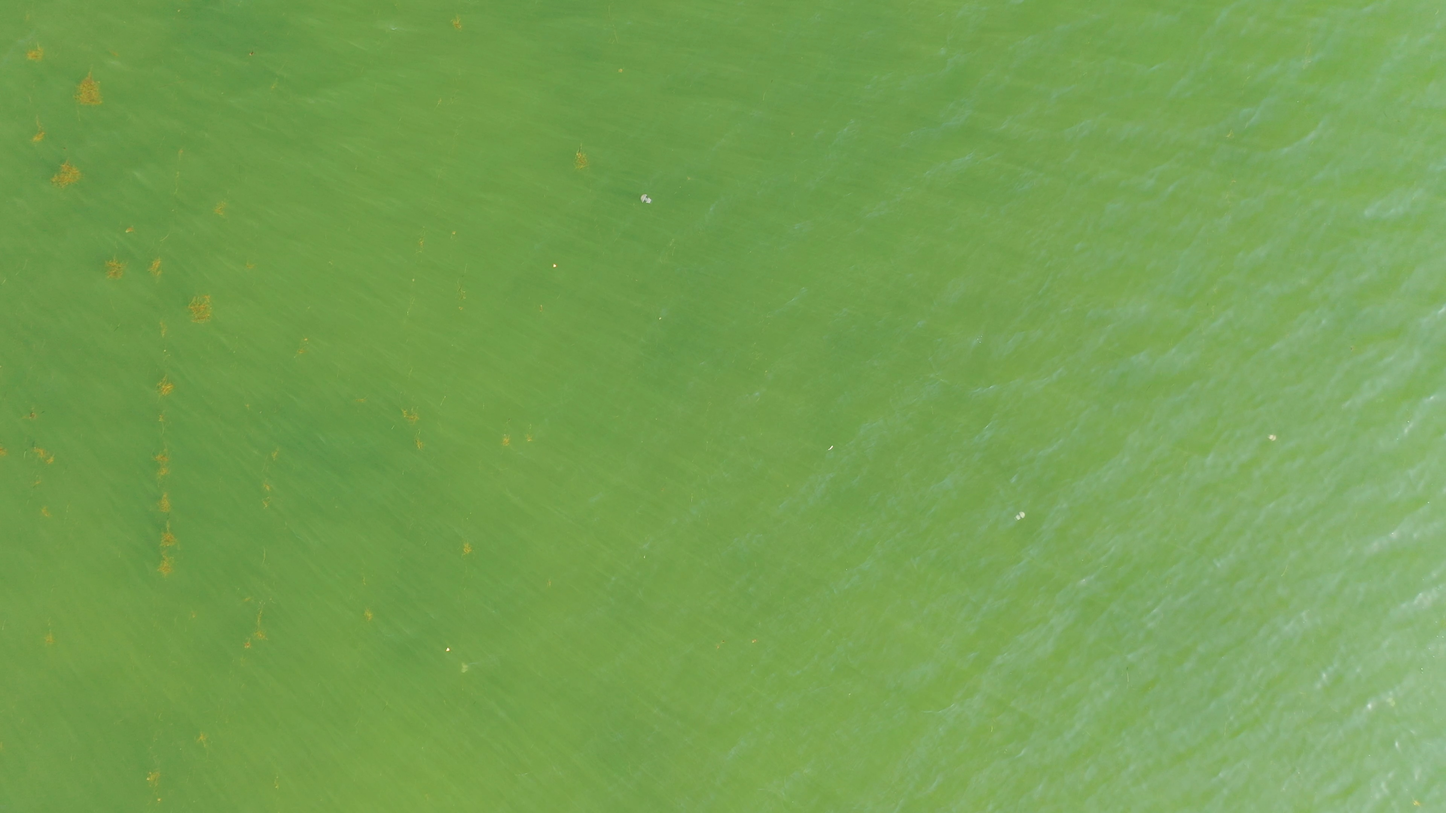meduse: (641, 193, 651, 206), (1016, 512, 1026, 520), (461, 663, 468, 674), (1268, 434, 1277, 441)
